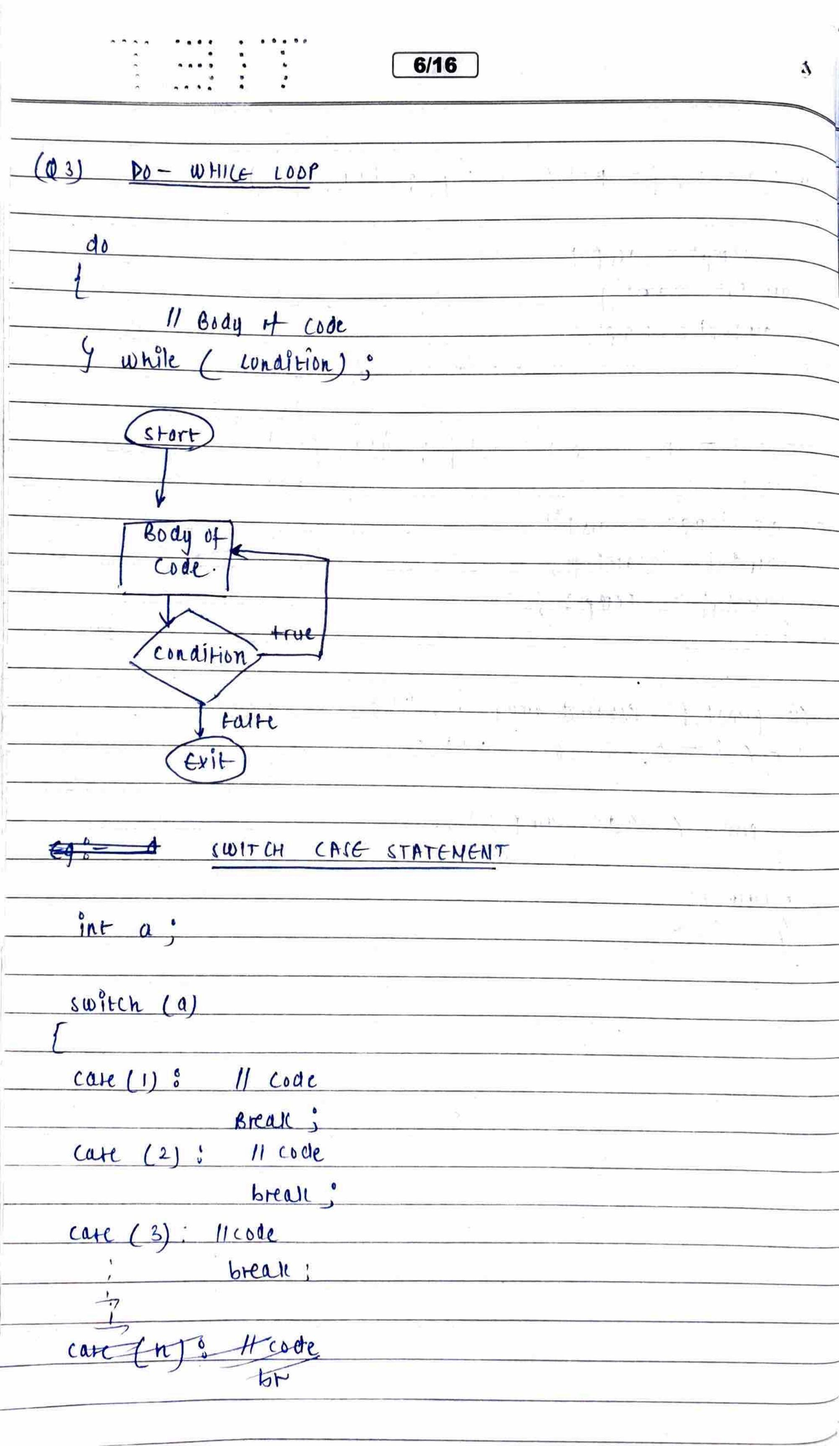cuttings: (67, 1332, 322, 1389), (47, 835, 163, 868)
